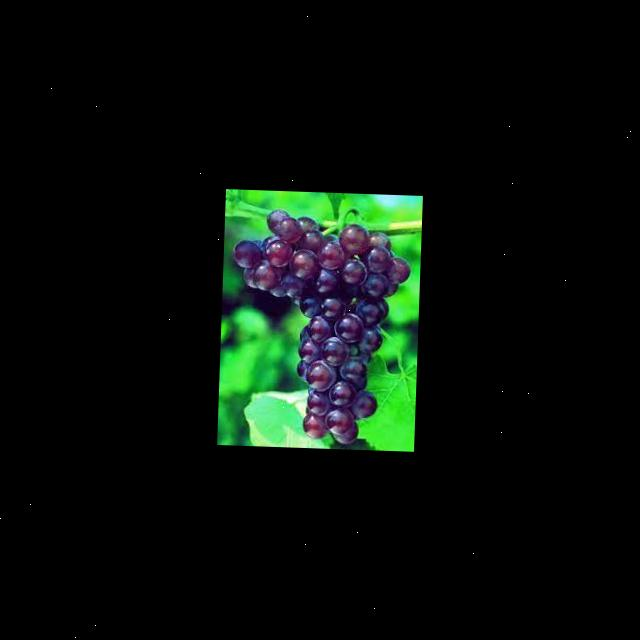grape: (225, 207, 412, 447)
